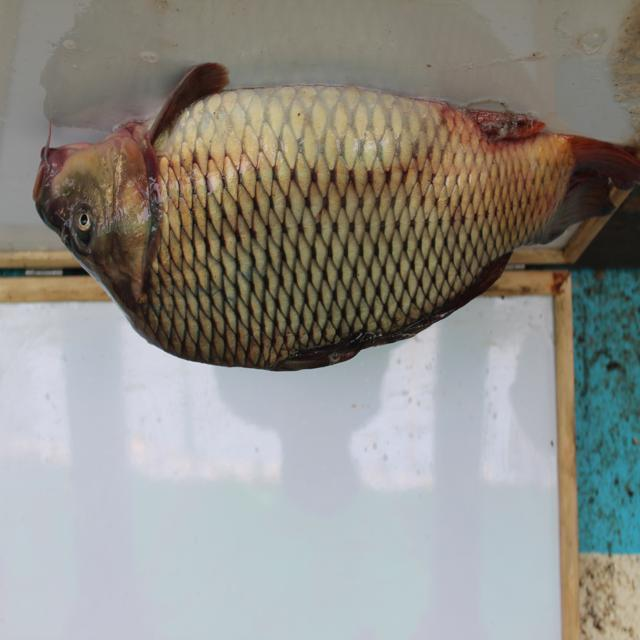CommonCarp: (35, 59, 640, 378)
